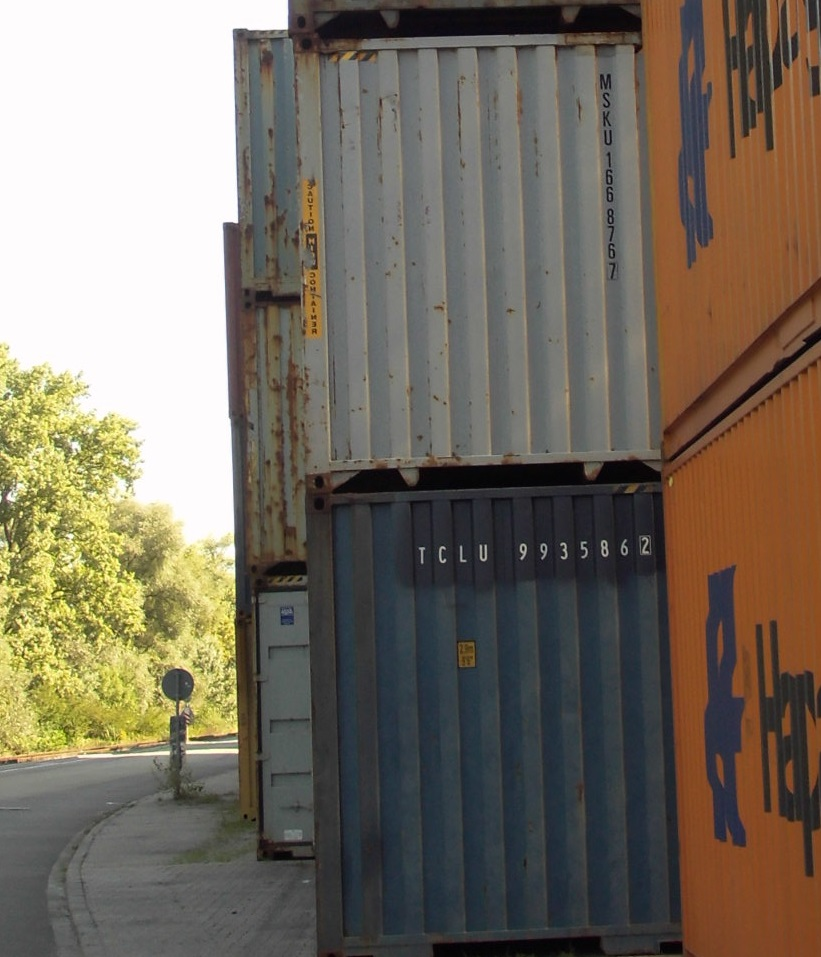container_no_door: (308, 484, 683, 957), (310, 33, 653, 487)
